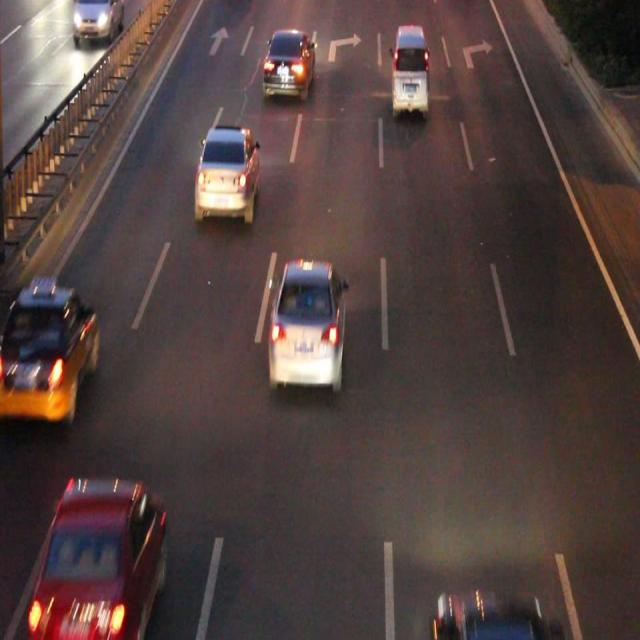car: (32, 480, 164, 640), (1, 283, 97, 414), (272, 263, 343, 384), (432, 595, 562, 640), (196, 126, 259, 215), (264, 32, 312, 94)
truck: (391, 28, 426, 112)
